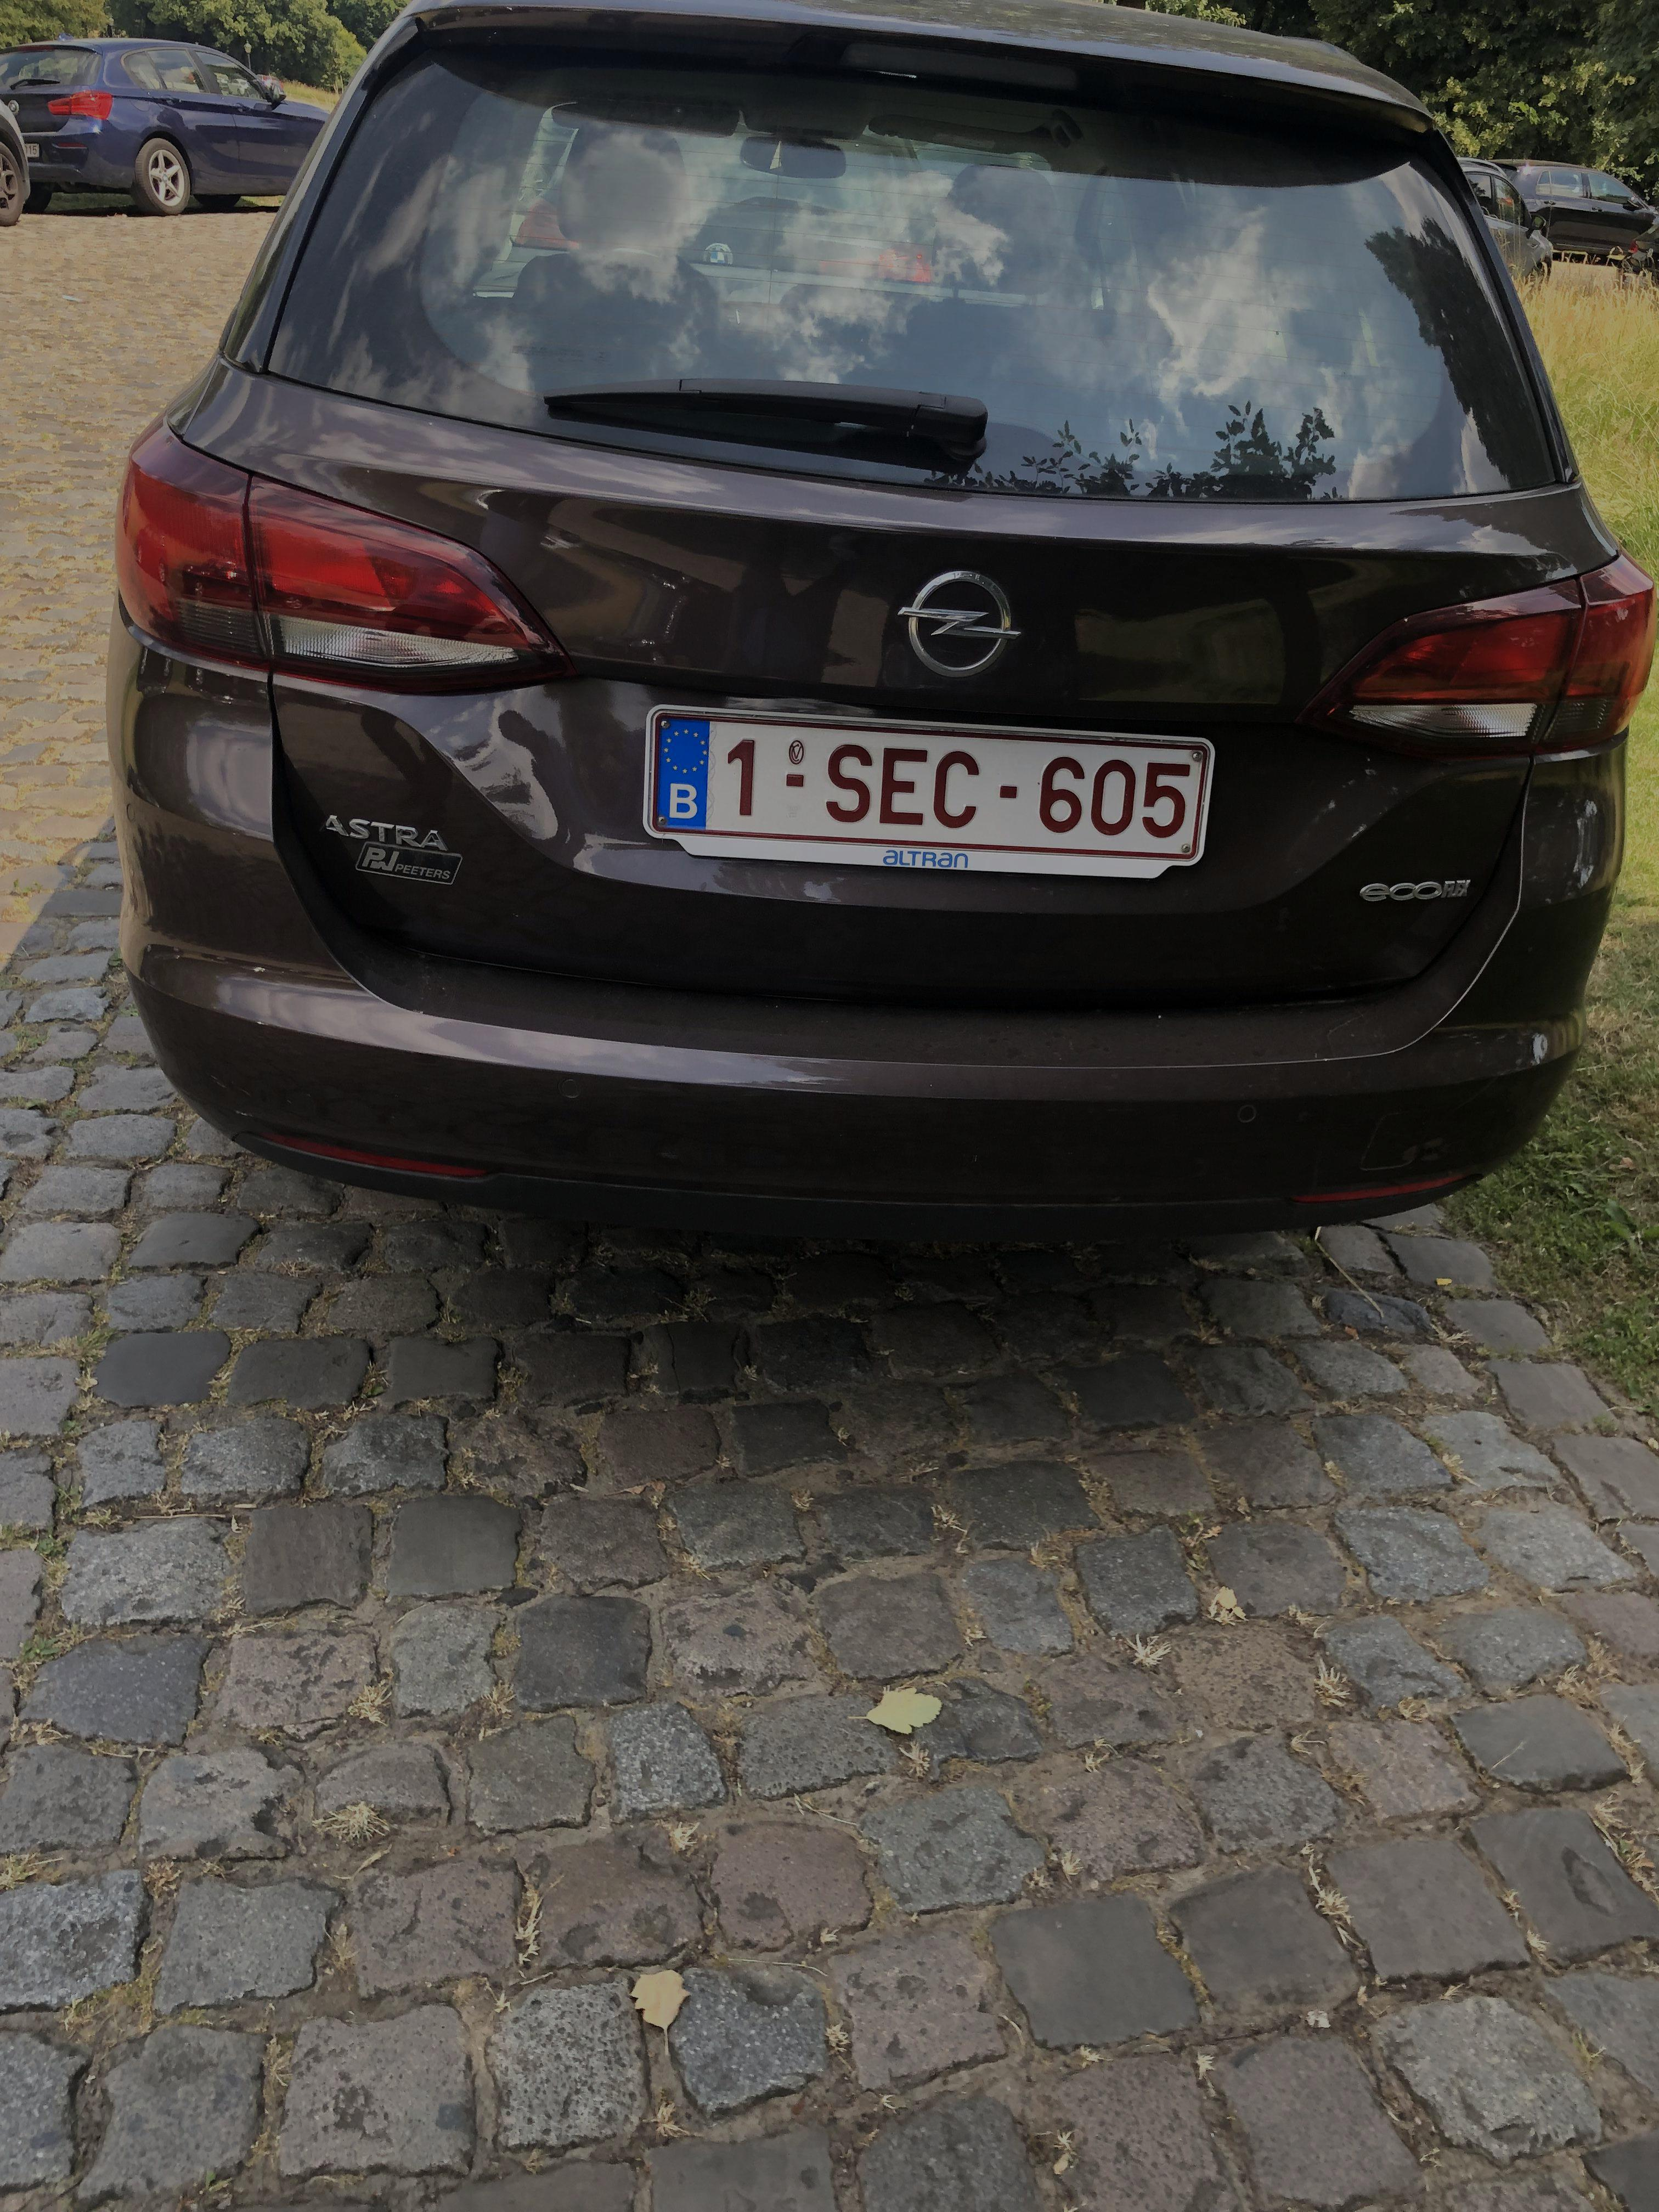plate: (618, 682, 1237, 890)
